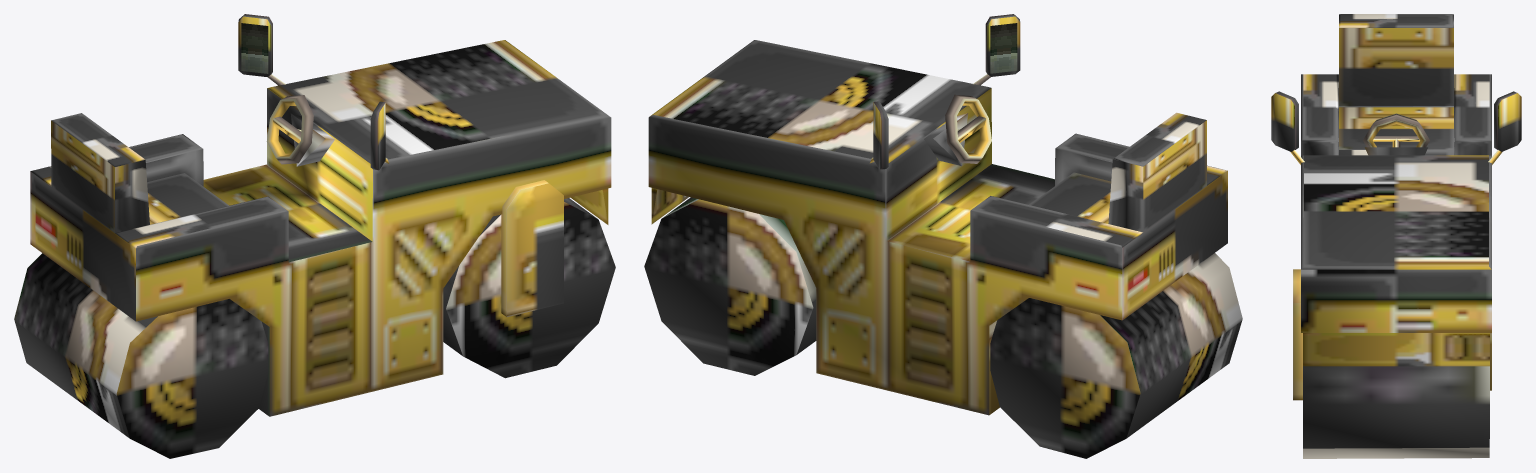
The model's file is int_csx_roller.dae.
The picture shows the model from 3 angles, left to right: view 1: azimuth 30°, elevation 25°; view 2: azimuth 150°, elevation 25°; view 3: azimuth 270°, elevation 25°; orthographic projection. The views are drawn at different scales.
Parts seen in each view (by area): view 1: int_csx_roller; view 2: int_csx_roller; view 3: int_csx_roller.
Boxes of the visible parts, left/top/right/bottom form: int_csx_roller: left=14, top=14, right=615, bottom=458; int_csx_roller: left=644, top=14, right=1242, bottom=458; int_csx_roller: left=1271, top=14, right=1521, bottom=458.
Size of the model in its own units: 65.25 by 39 by 31.5.
2 materials, 2 textured.
